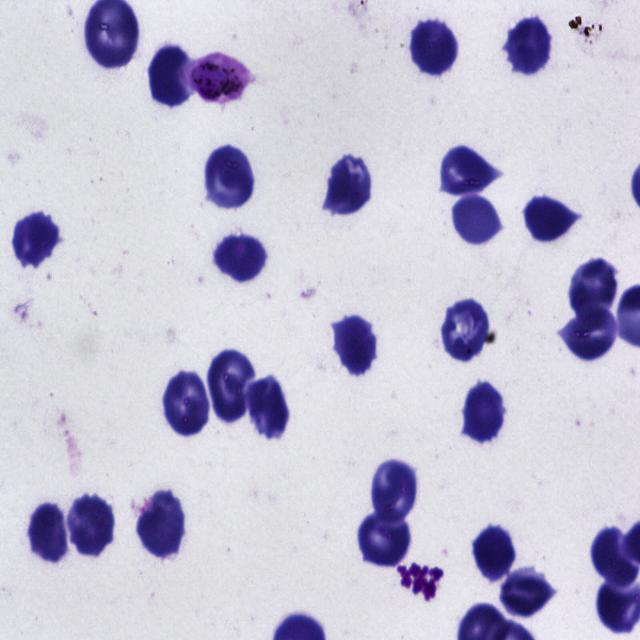difficult: (184, 53, 256, 105)
red blood cell: (207, 349, 255, 422), (137, 491, 185, 562), (441, 141, 502, 195), (356, 510, 412, 568), (164, 368, 210, 438), (204, 146, 254, 209), (498, 565, 557, 618), (441, 298, 489, 362), (568, 255, 617, 317), (558, 310, 618, 360), (69, 493, 116, 555), (522, 194, 579, 244), (591, 528, 640, 586), (506, 16, 554, 74), (12, 212, 60, 270), (411, 19, 459, 77), (372, 458, 420, 516), (215, 235, 268, 287), (453, 192, 502, 248), (148, 46, 192, 108), (248, 378, 290, 441), (463, 382, 506, 443), (334, 315, 378, 374), (328, 154, 372, 212), (28, 503, 69, 562), (473, 524, 516, 580)
